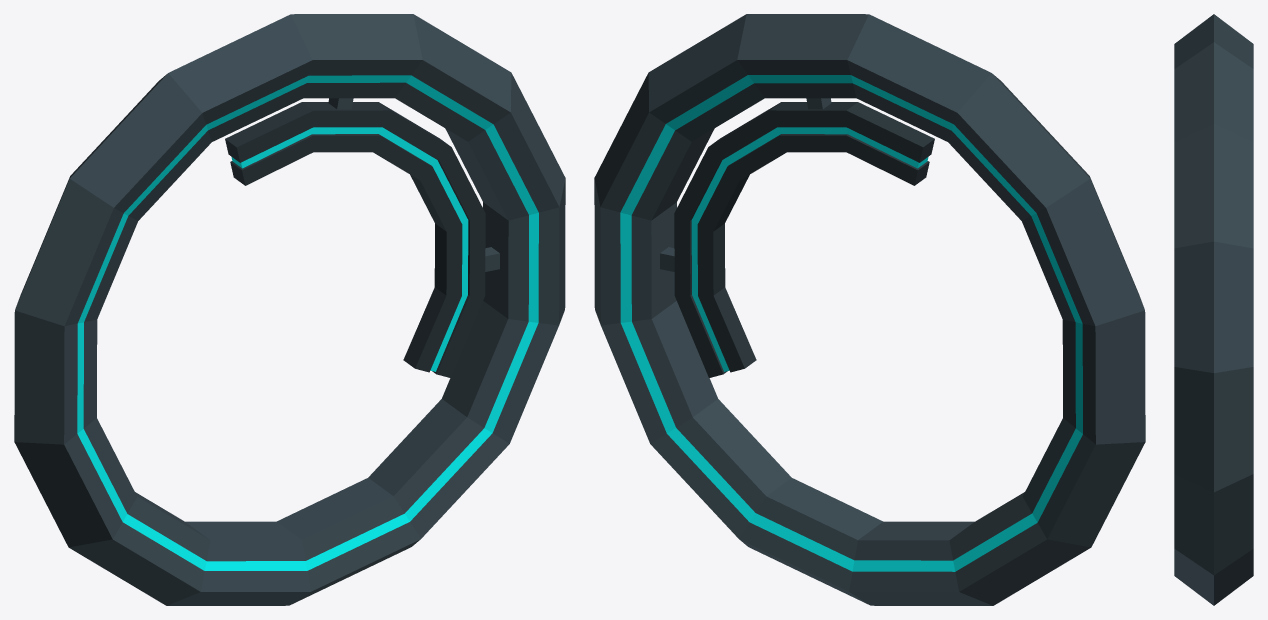
Rendered from portal.glb.
3 renders of one model, left to right at view 1: azimuth 30°, elevation 25°; view 2: azimuth 150°, elevation 25°; view 3: azimuth 270°, elevation 25°, orthographic. The views are drawn at different scales.
Visible parts, largest first — view 1: Torus; view 2: Torus; view 3: Torus.
Part boxes in pixels (left/top/right/bottom): Torus: left=14, top=14, right=565, bottom=605; Torus: left=594, top=14, right=1145, bottom=605; Torus: left=1174, top=14, right=1253, bottom=605.
Bounding box in the file's own units: 34.8 × 35.67 × 4.77.
Materials: 1 (1 with a texture image).
